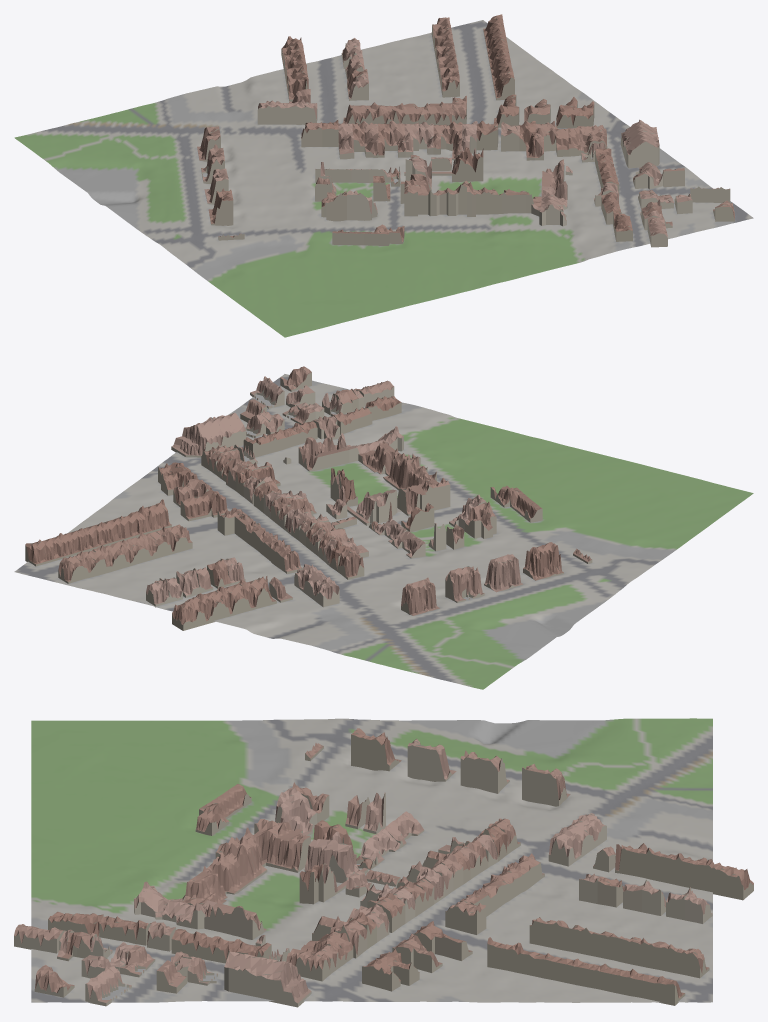
3 renders of one model, top to bottom at view 1: azimuth 30°, elevation 25°; view 2: azimuth 150°, elevation 25°; view 3: azimuth 270°, elevation 25°, orthographic. The views are drawn at different scales.
Parts seen in each view (by area): view 1: ground, b:way/135921496, b:way/134912769, b:way/134558490, b:way/134558492, b:way/134951136, b:way/134557069, b:way/134557067, b:way/108047594, b:way/134912760, b:way/135921526, b:way/136176027 (+11 smaller); view 2: ground, b:way/134558492, b:way/134558490, b:way/135921496, b:way/134557067, b:way/134951136, b:way/134912769, b:way/134817987, b:way/670770425, b:way/134557069, b:way/134912765, b:way/134912766 (+17 smaller); view 3: ground, b:way/135921496, b:way/134558490, b:way/134558492, b:way/134557067, b:way/134951136, b:way/134912769, b:way/134557069, b:way/134817987, b:way/135921514, b:way/134912760, b:way/670770425 (+44 smaller).
Boxes of the visible parts, box(x1,y1,x2,y2) form: ground: box(14, 20, 753, 337); b:way/135921496: box(400, 174, 541, 216); b:way/134912769: box(343, 102, 452, 125); b:way/134558490: box(483, 14, 514, 100); b:way/134558492: box(431, 17, 459, 97); b:way/134951136: box(620, 119, 659, 168); b:way/134557069: box(257, 99, 317, 124); b:way/134557067: box(281, 36, 308, 101); b:way/108047594: box(332, 224, 404, 245); b:way/134912760: box(556, 97, 594, 128); b:way/135921526: box(452, 147, 483, 182); b:way/136176027: box(346, 190, 377, 220); ground: box(14, 374, 753, 689); b:way/134558492: box(58, 524, 192, 583); b:way/134558490: box(25, 499, 171, 566); b:way/135921496: box(358, 441, 450, 516); b:way/134557067: box(172, 576, 276, 630); b:way/134951136: box(171, 412, 246, 457); b:way/134912769: box(234, 513, 302, 574); b:way/134817987: box(243, 421, 317, 457); b:way/670770425: box(298, 437, 349, 471); b:way/134557069: box(294, 564, 339, 607); b:way/134912765: box(523, 542, 563, 580); b:way/134912766: box(445, 566, 484, 603); ground: box(31, 718, 712, 1002); b:way/135921496: box(182, 819, 311, 905); b:way/134558490: box(487, 937, 685, 1005); b:way/134558492: box(529, 917, 709, 978); b:way/134557067: box(615, 843, 753, 900); b:way/134951136: box(224, 951, 311, 1007); b:way/134912769: box(460, 853, 544, 916); b:way/134557069: box(548, 813, 606, 866); b:way/134817987: box(171, 929, 271, 963); b:way/135921514: box(304, 831, 359, 882); b:way/134912760: box(362, 949, 419, 991); b:way/670770425: box(204, 903, 266, 939).
Size of the model in its own units: 254 by 19.15 by 271.
